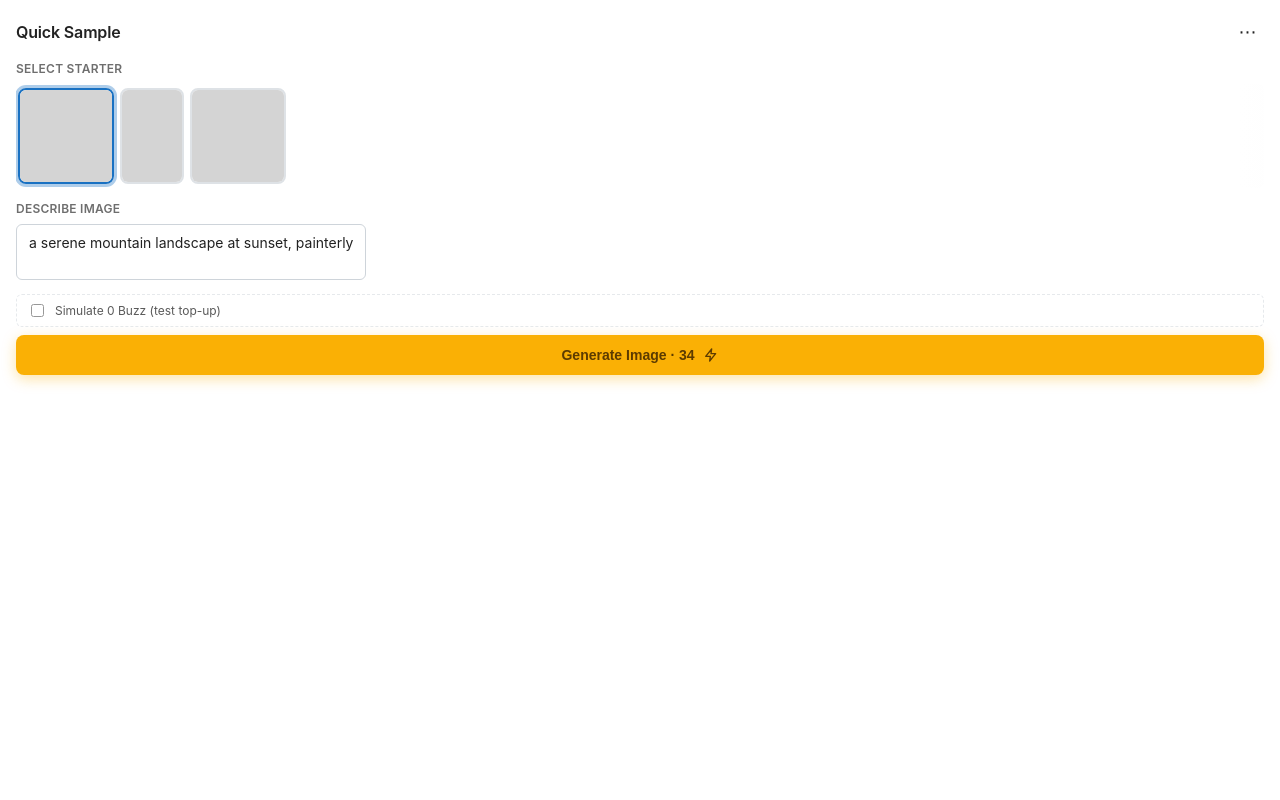
Test: In-flight loading card (results carousel) › renders a loading card with aria-busy while the submit is in flight
The image size is (1280, 800).
Click the button "Generate Image · 34" at (640, 355), box [16, 335, 1264, 375]
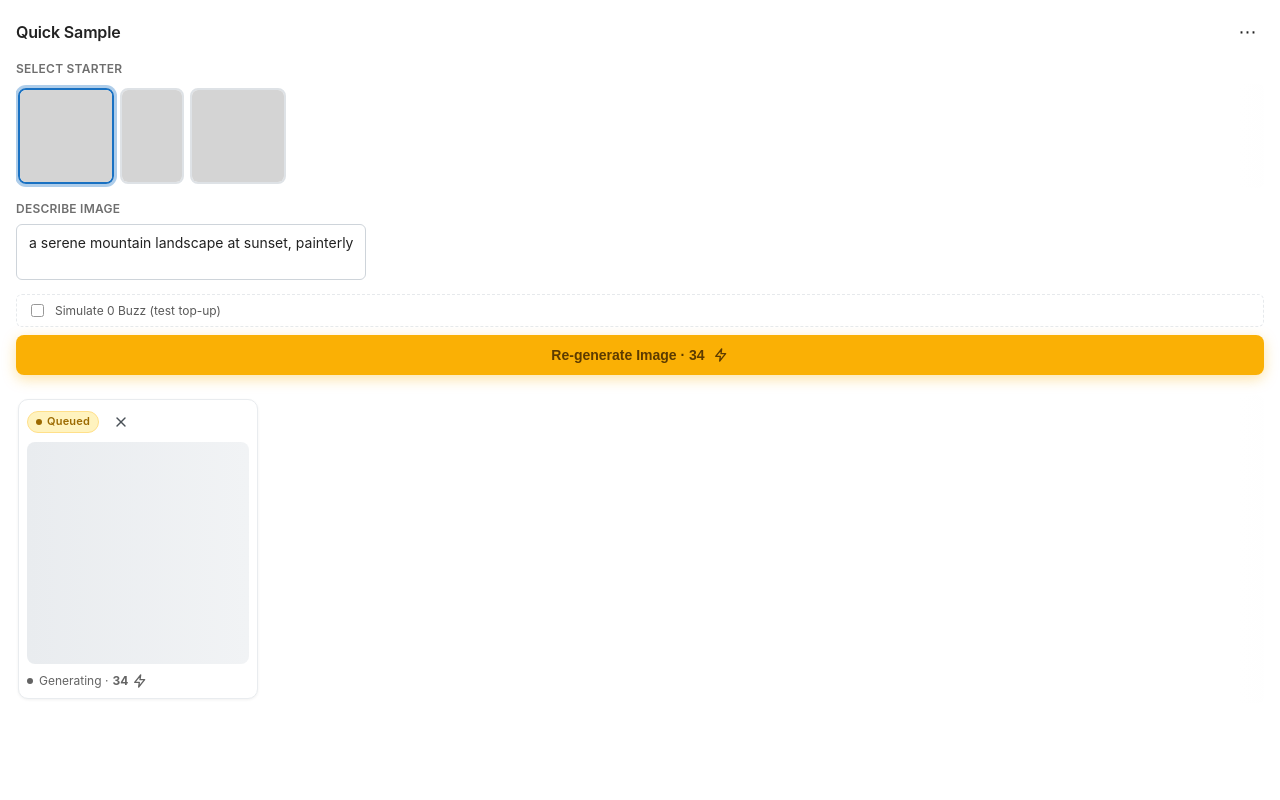
expect the element labelled "Generating" is shown: met, box [18, 399, 258, 699]
